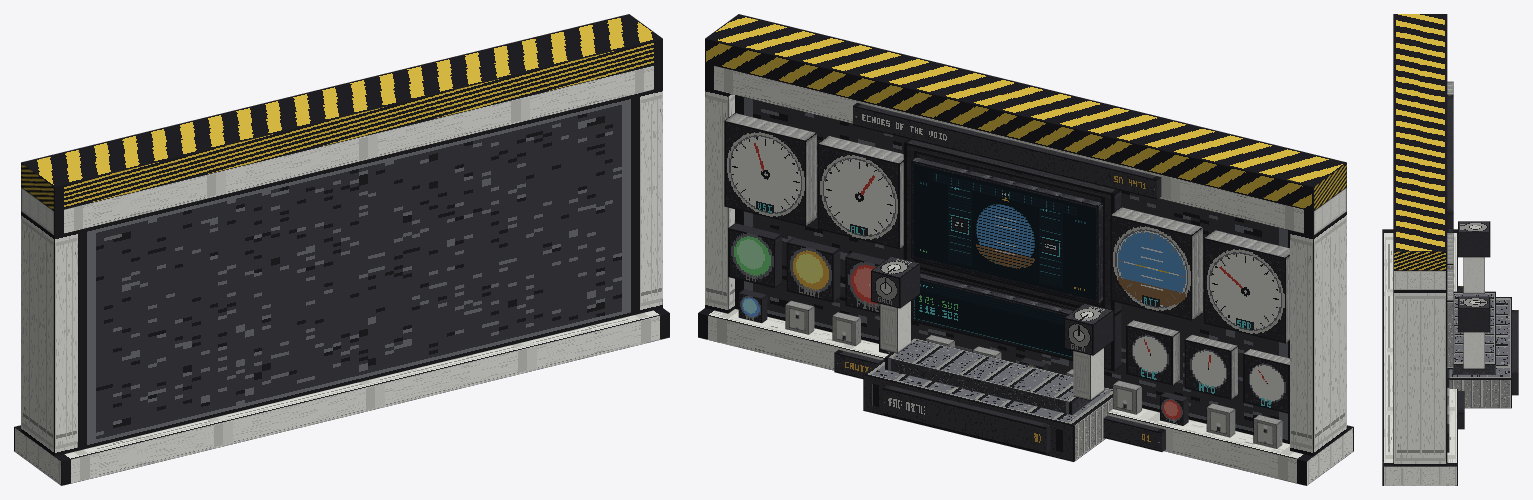
The model's file is instrument_panel.glb.
3 views of the same model, side by side, from view 1: azimuth 30°, elevation 25°; view 2: azimuth 150°, elevation 25°; view 3: azimuth 270°, elevation 25° (orthographic). The views are drawn at different scales.
Visible parts, largest first — view 1: frame; view 2: frame, gauges, display, throttle, indicators, radio, switches; view 3: frame, throttle, gauges, switches.
Boxes of the visible parts, x1,y1,x2,y2 form: frame: [14, 14, 669, 485]; frame: [698, 14, 1353, 485]; gauges: [724, 113, 1289, 343]; display: [903, 139, 1121, 315]; throttle: [863, 256, 1113, 461]; indicators: [728, 223, 1289, 413]; radio: [911, 269, 1121, 371]; switches: [738, 289, 1282, 448]; frame: [1382, 14, 1464, 485]; throttle: [1449, 221, 1518, 408]; gauges: [1447, 81, 1453, 369]; switches: [1447, 369, 1449, 452].
Bounding box in the file's own units: 3.25 × 1.5 × 0.7875.
Materials: 1 (1 with a texture image).
